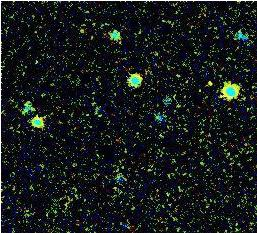star: (193, 69, 223, 99)
